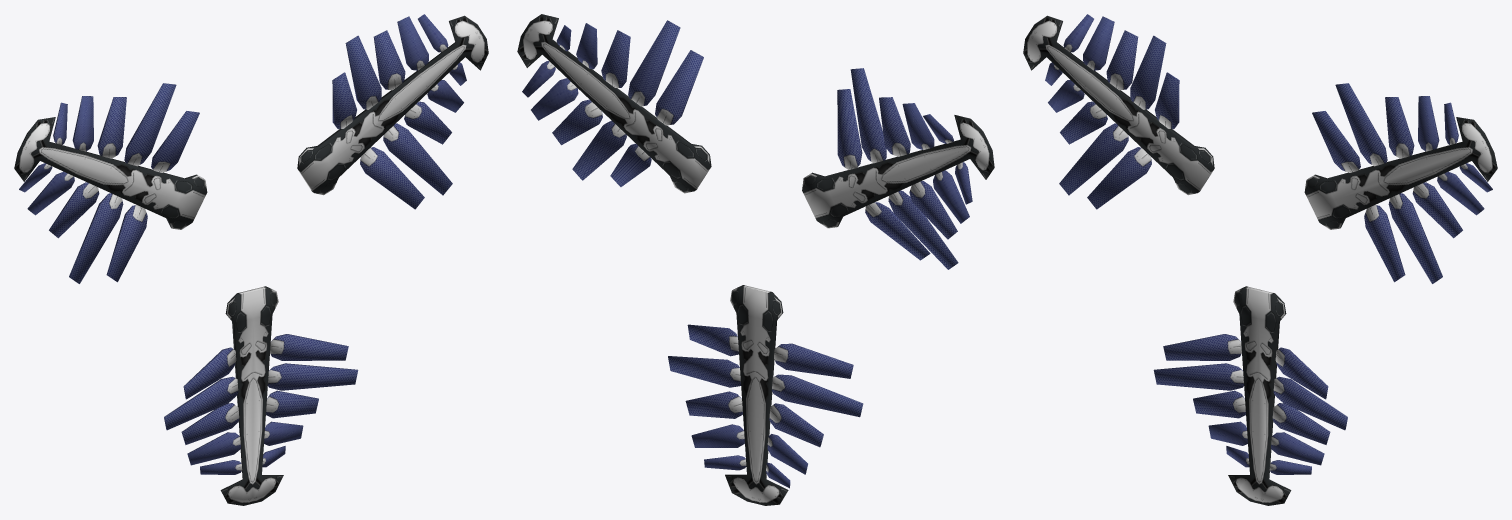
Rendered from GeneradorT3.fbx.
3 renders of one model, left to right at view 1: azimuth 30°, elevation 25°; view 2: azimuth 150°, elevation 25°; view 3: azimuth 330°, elevation 25°, orthographic.
Visible parts, largest first — view 1: GeneradorT3; view 2: GeneradorT3; view 3: GeneradorT3.
Boxes of the visible parts, x1,y1,x2,y2 form: GeneradorT3: (14, 14, 488, 505); GeneradorT3: (517, 14, 994, 505); GeneradorT3: (1023, 14, 1497, 505).
Bounding box in the file's own units: 9.39 × 8.52 × 0.8254.
Materials: 1 (1 with a texture image).
